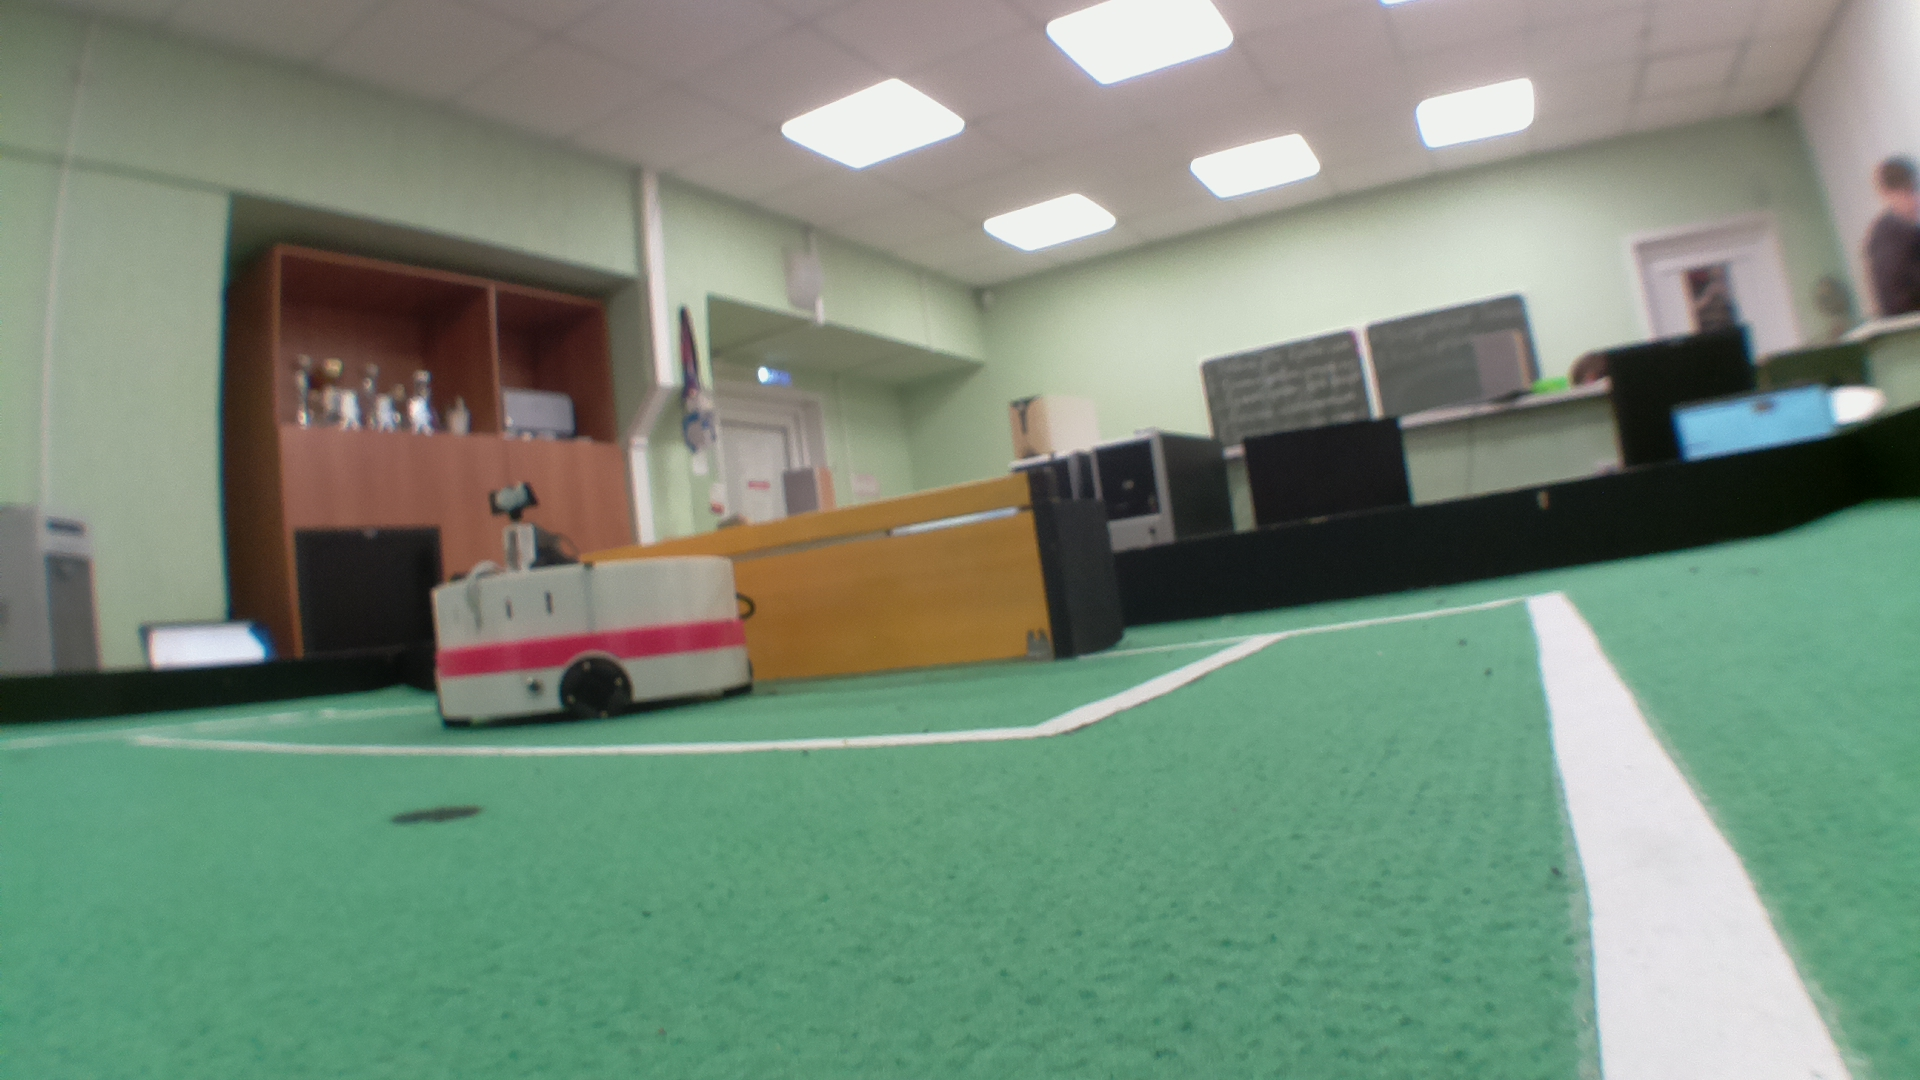YellowGoal: (688, 469, 1056, 673)
